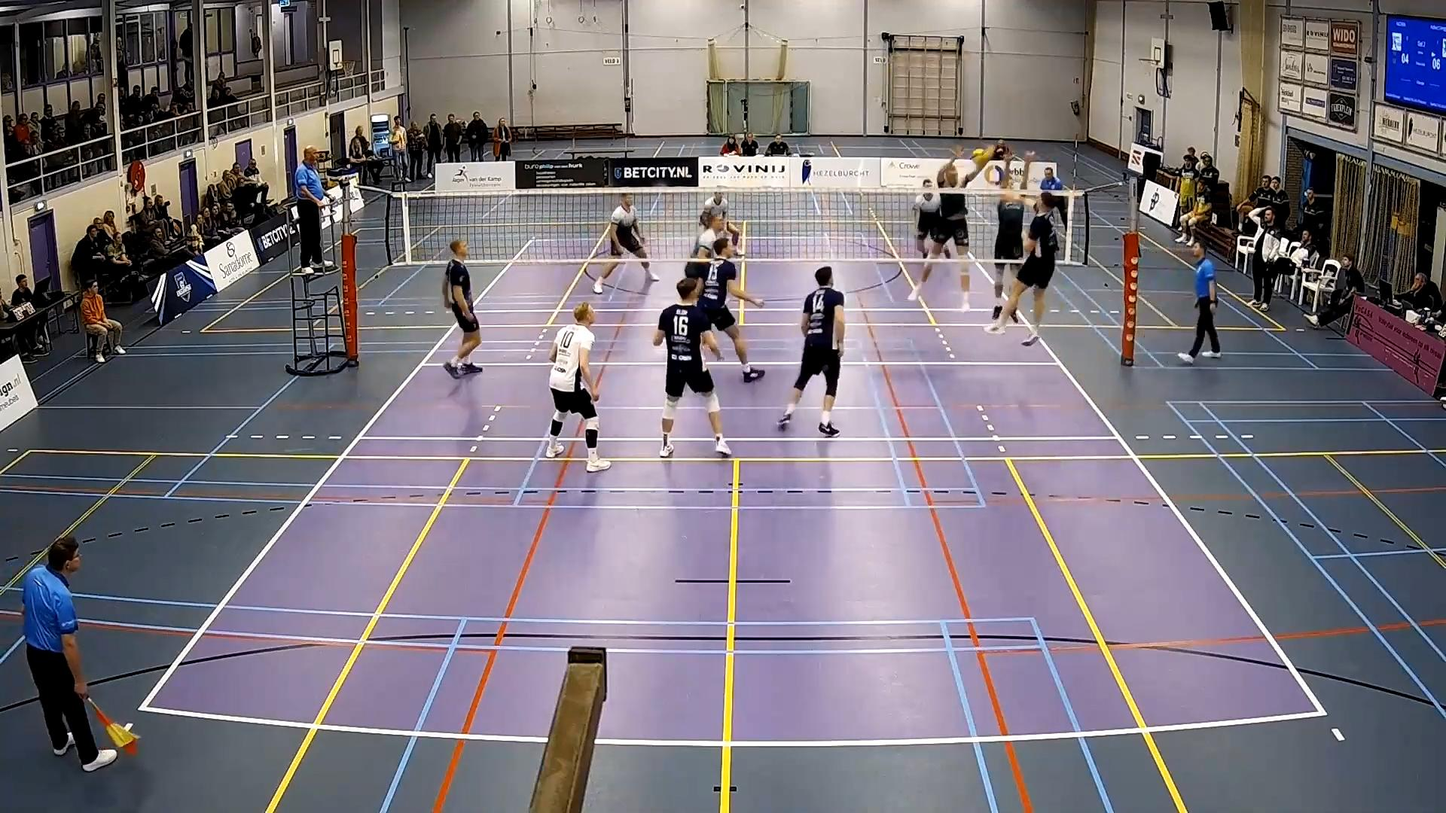attacco: (976, 181, 1077, 343)
muro: (901, 134, 987, 315), (984, 138, 1037, 330)
